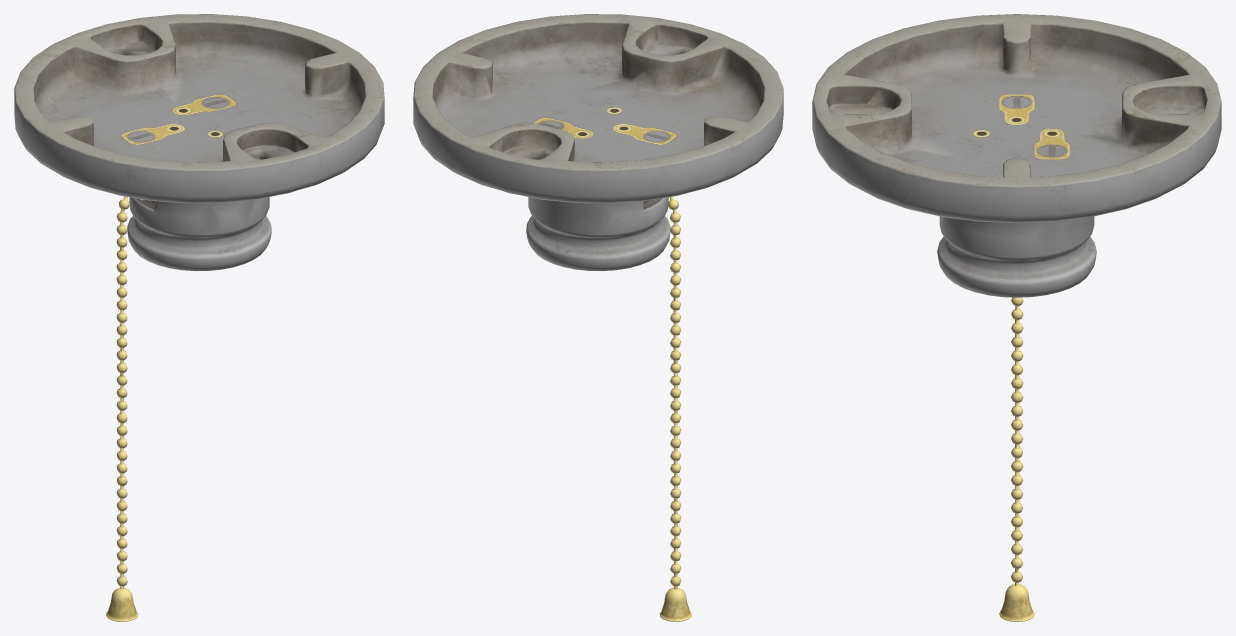
Rendered from pull_chain_light_socket.glb.
The picture shows the model from 3 angles, left to right: view 1: azimuth 30°, elevation 25°; view 2: azimuth 150°, elevation 25°; view 3: azimuth 270°, elevation 25°; orthographic projection. The views are drawn at different scales.
Parts seen in each view (by area): view 1: pull_chain_light_socket; view 2: pull_chain_light_socket; view 3: pull_chain_light_socket.
Boxes of the visible parts, box(x1,y1,x2,y2) form: pull_chain_light_socket: box(14, 14, 384, 621); pull_chain_light_socket: box(413, 14, 783, 621); pull_chain_light_socket: box(812, 14, 1221, 621).
Bounding box in the file's own units: 0.1103 × 0.1654 × 0.1103.
1 material, 1 textured.
